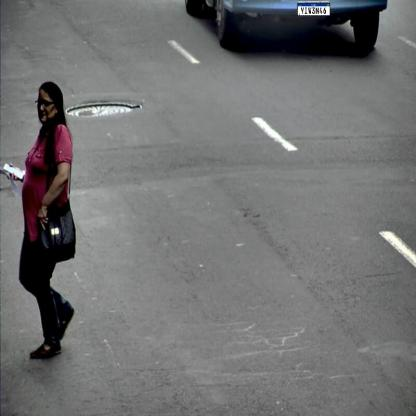PlacaM: (298, 3, 330, 16)
